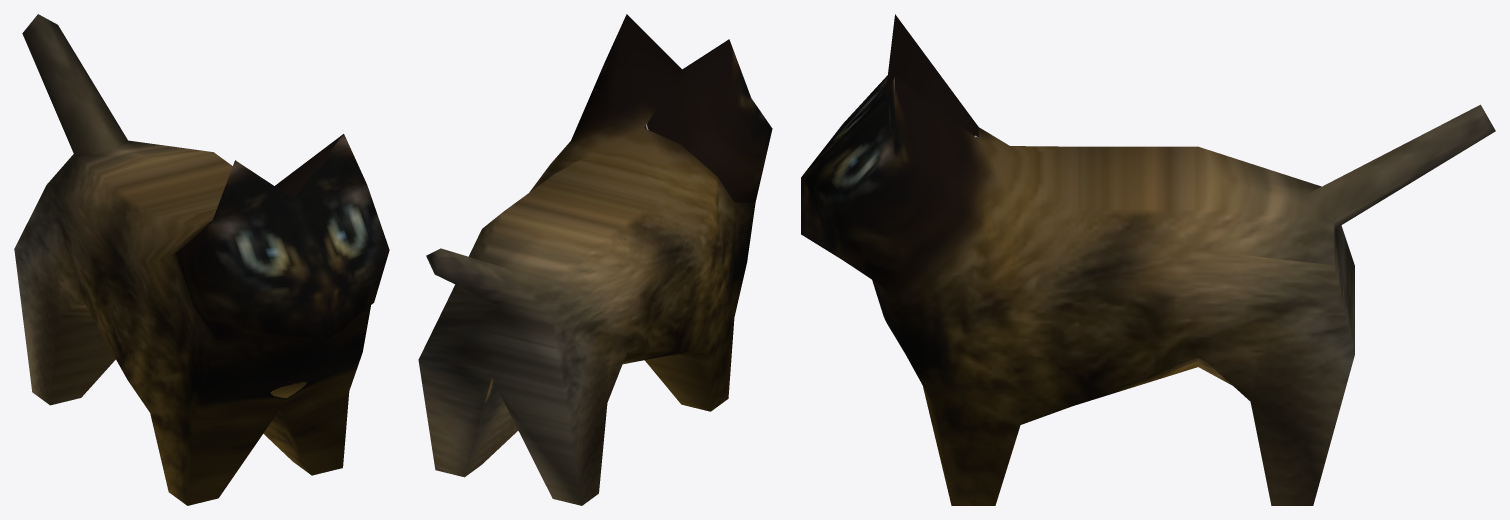
Rendered from catresult.fbx.
The picture shows the model from 3 angles, left to right: view 1: azimuth 30°, elevation 25°; view 2: azimuth 150°, elevation 25°; view 3: azimuth 270°, elevation 25°; orthographic projection. The views are drawn at different scales.
Parts seen in each view (by area): view 1: cat; view 2: cat; view 3: cat.
Part boxes in pixels (left/top/right/bottom): cat: left=14, top=14, right=389, bottom=505; cat: left=418, top=14, right=772, bottom=505; cat: left=801, top=14, right=1495, bottom=505.
Bounding box in the file's own units: 240 × 440 × 665.
